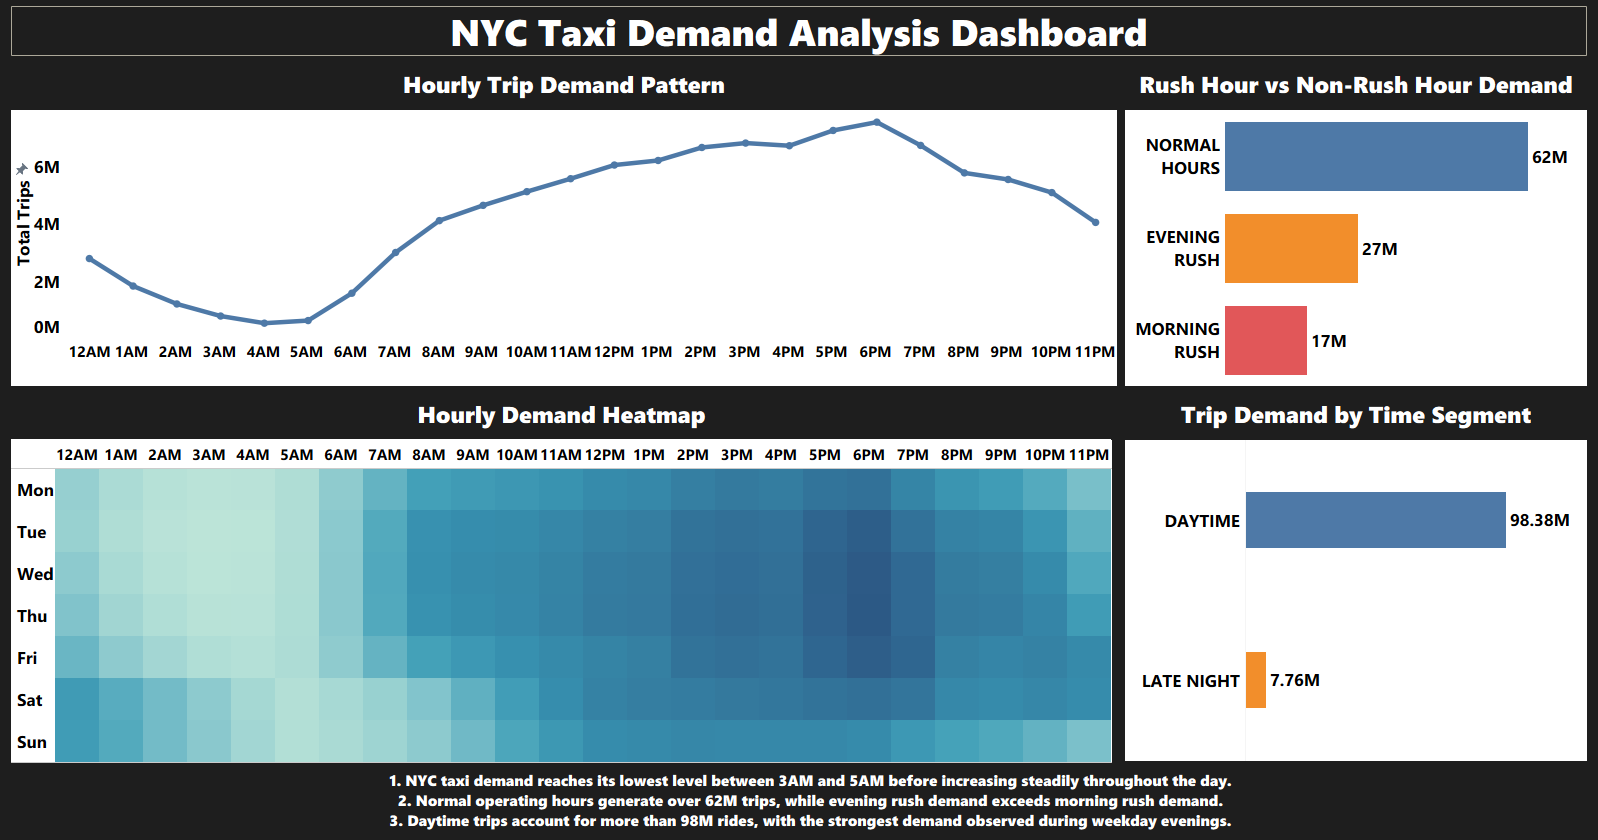

The dashboard page shown, as its layout file describes it:
{"tool":"tableau","page":{"name":"Demand Analysis Dashboard","canvas":[1600,900],"ordinal":0},"visuals":[{"type":"title","box":[8,8,1584,58]},{"type":"worksheet","title":"Hourly Trip Demand Pattern","mark":"Line","rows":["Calculation_2080281158668295"],"cols":["Calculation_0853501695381504"],"box":[8,66,1114,330]},{"type":"worksheet","title":"Rush Hour vs Non-Rush Hour Demand","mark":"Automatic","rows":["RUSH_TYPE"],"cols":["Calculation_2080281158668295"],"box":[1122,66,470,330]},{"type":"worksheet","title":"Hourly Demand Heatmap","mark":"Square","rows":["DAY_NAME"],"cols":["Calculation_0853501695381504"],"box":[8,396,1114,385]},{"type":"worksheet","title":"Trip Demand by Time Segment","mark":"Automatic","rows":["TRIP_CATEGORY"],"cols":["Calculation_2080281158668295"],"box":[1122,396,470,496]}]}

Visuals, with their boxes on the page's 1600x900 design canvas (x1, y1, x2, y2). These are canvas units, not pixel positions in the 1598x840 screenshot, which may show the page scaled, cropped or inside an application window:
title: box=[8, 8, 1592, 66]
"Hourly Trip Demand Pattern" worksheet (Line marks): box=[8, 66, 1122, 396]
"Rush Hour vs Non-Rush Hour Demand" worksheet: box=[1122, 66, 1592, 396]
"Hourly Demand Heatmap" worksheet (Square marks): box=[8, 396, 1122, 781]
"Trip Demand by Time Segment" worksheet: box=[1122, 396, 1592, 892]
